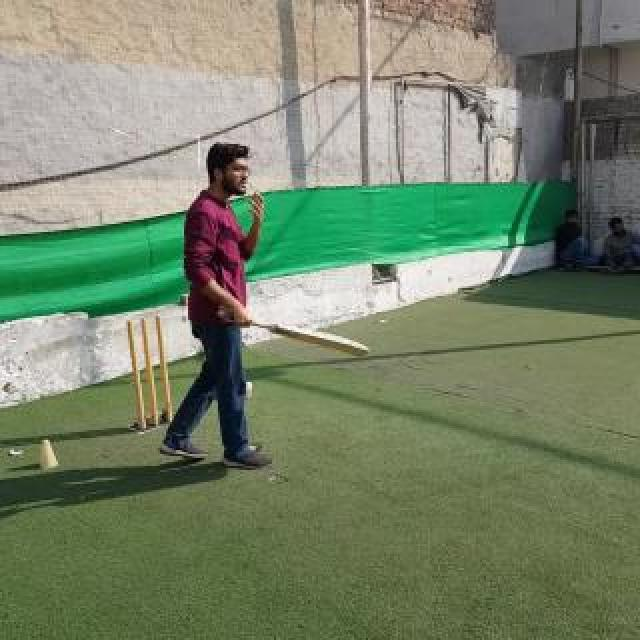bat: (218, 310, 372, 358)
